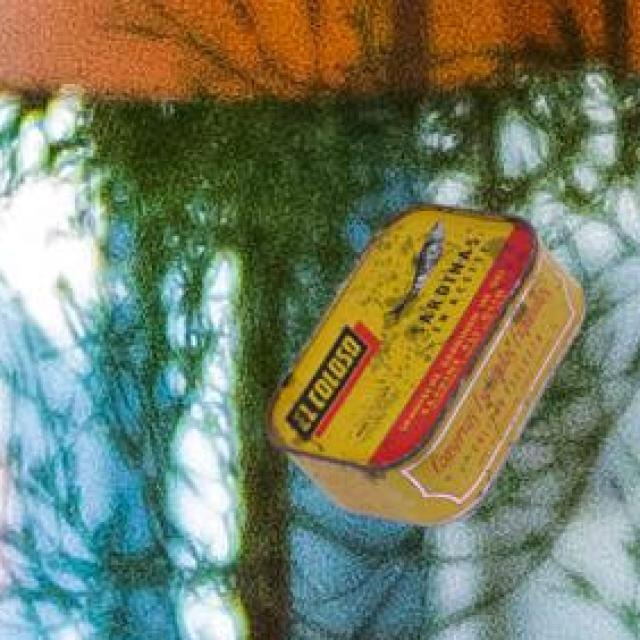logam: (269, 208, 589, 530)
